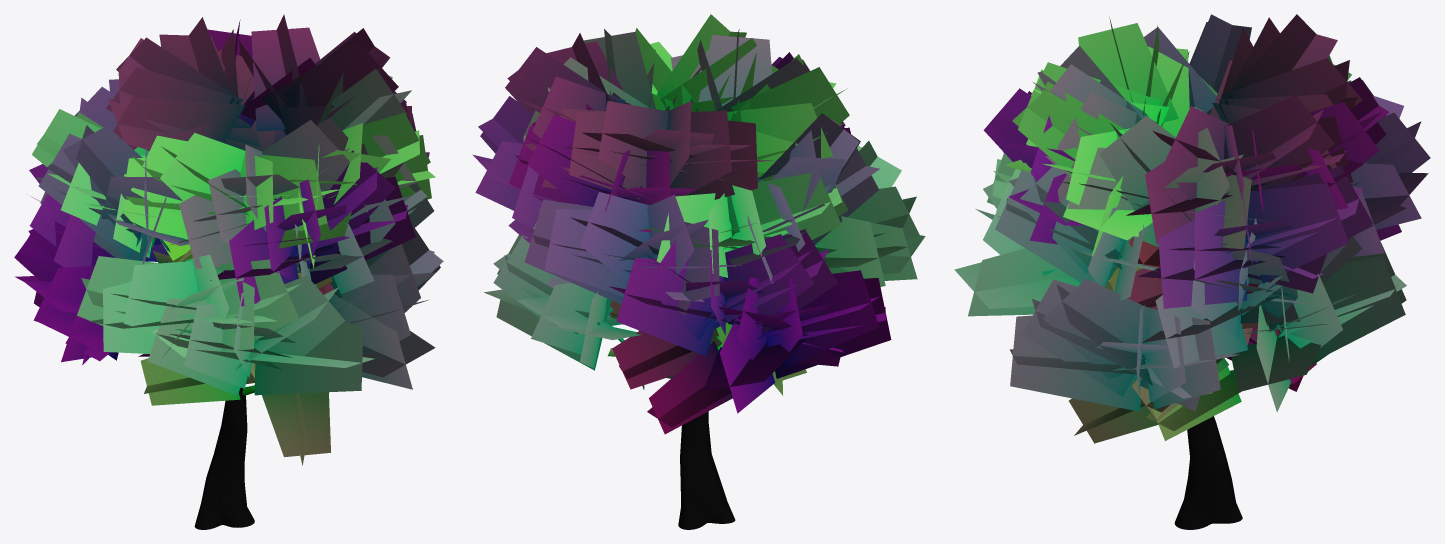
File: Tree_3_2.fbx
The picture shows the model from 3 angles, left to right: view 1: azimuth 30°, elevation 25°; view 2: azimuth 150°, elevation 25°; view 3: azimuth 270°, elevation 25°; orthographic projection. The views are drawn at different scales.
Visible parts, largest first — view 1: _2; view 2: _2; view 3: _2.
Part boxes in pixels (bbox=[...]): _2: bbox=[14, 14, 443, 529]; _2: bbox=[472, 14, 925, 529]; _2: bbox=[954, 14, 1430, 529].
Bounding box in the file's own units: 1773 × 2006 × 1780.
